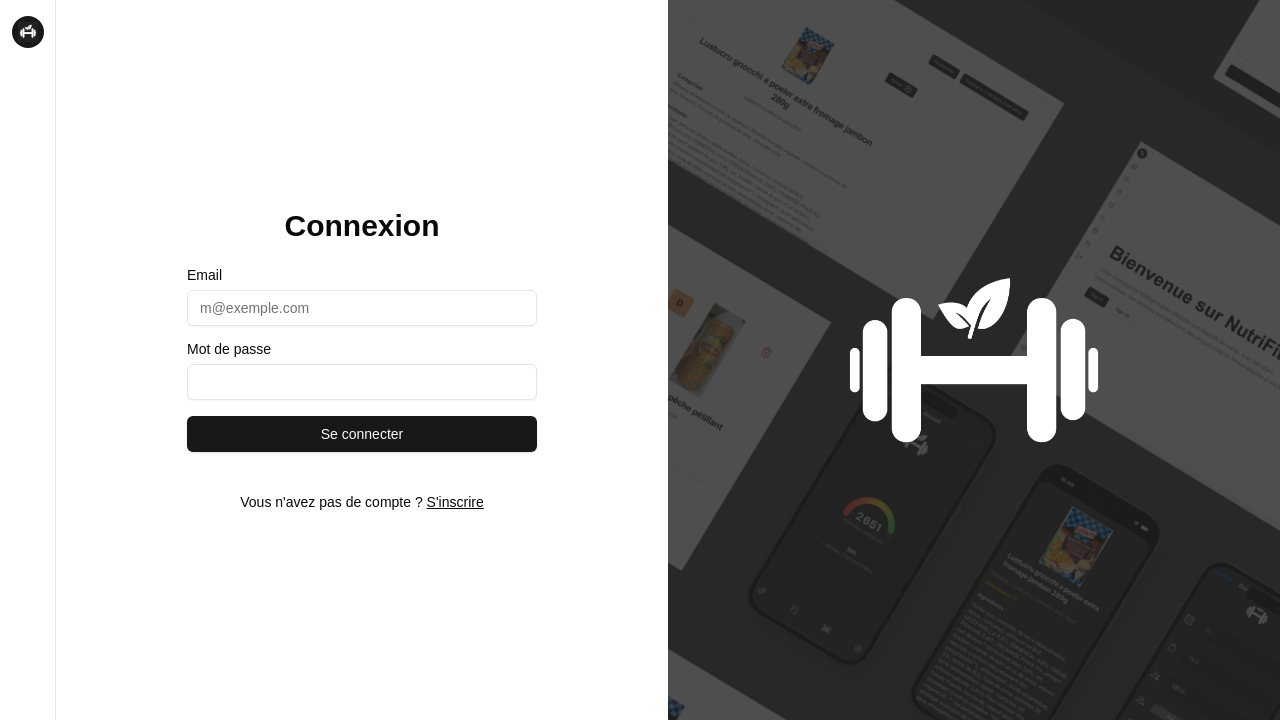
Navigation Tests › should navigate between sign in and sign up pages
Note: Go to sign up from sign in
Click the link to "/auth/sign-up" at (456, 502), box [427,494,484,510]
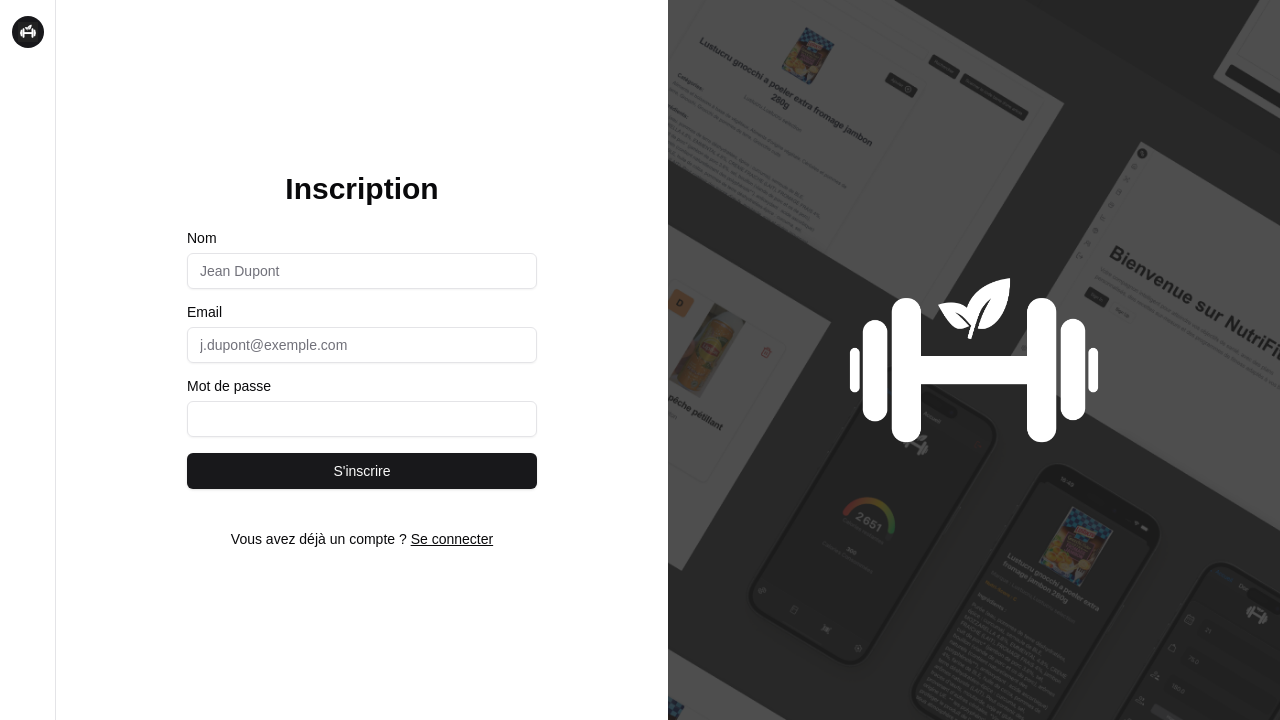
Check: the heading "Inscription" is shown, box [285,172,439,205]
Note: Go back to sign in from sign up
Click the link to "/auth/sign-in" at (453, 539), box [411,531,494,547]
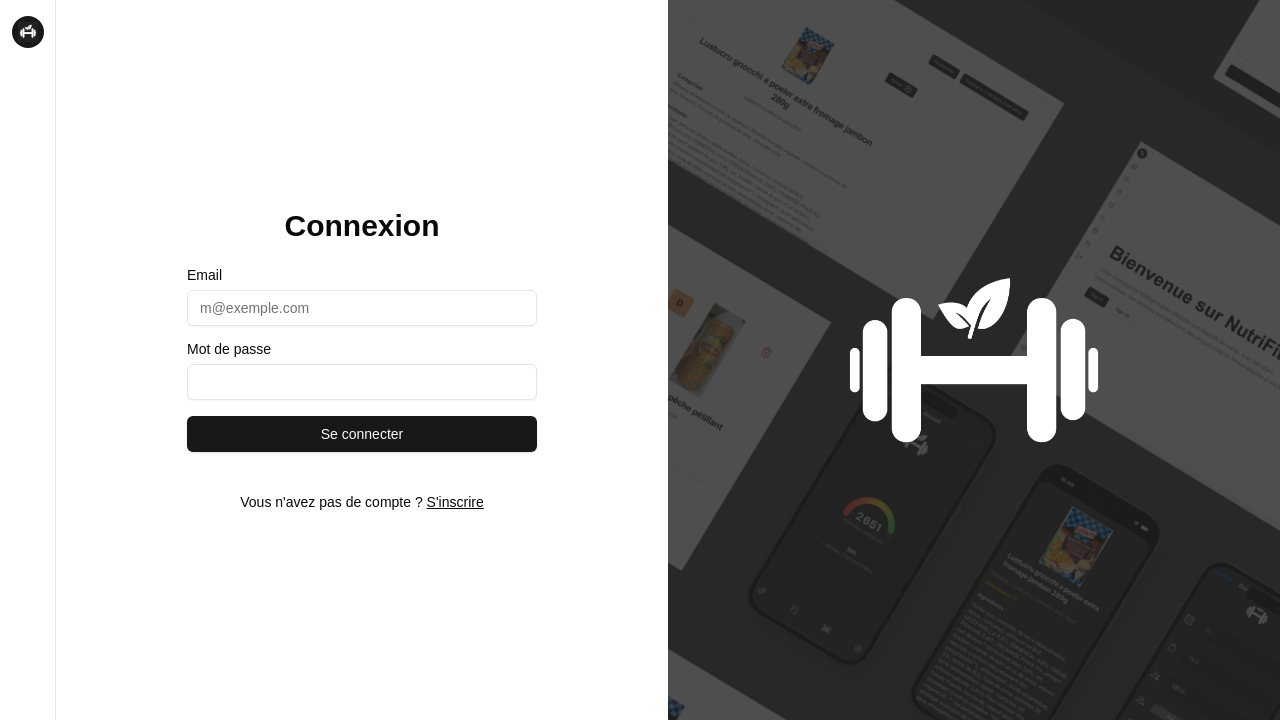
Check: the heading "Connexion" is shown, box [284,209,440,242]
